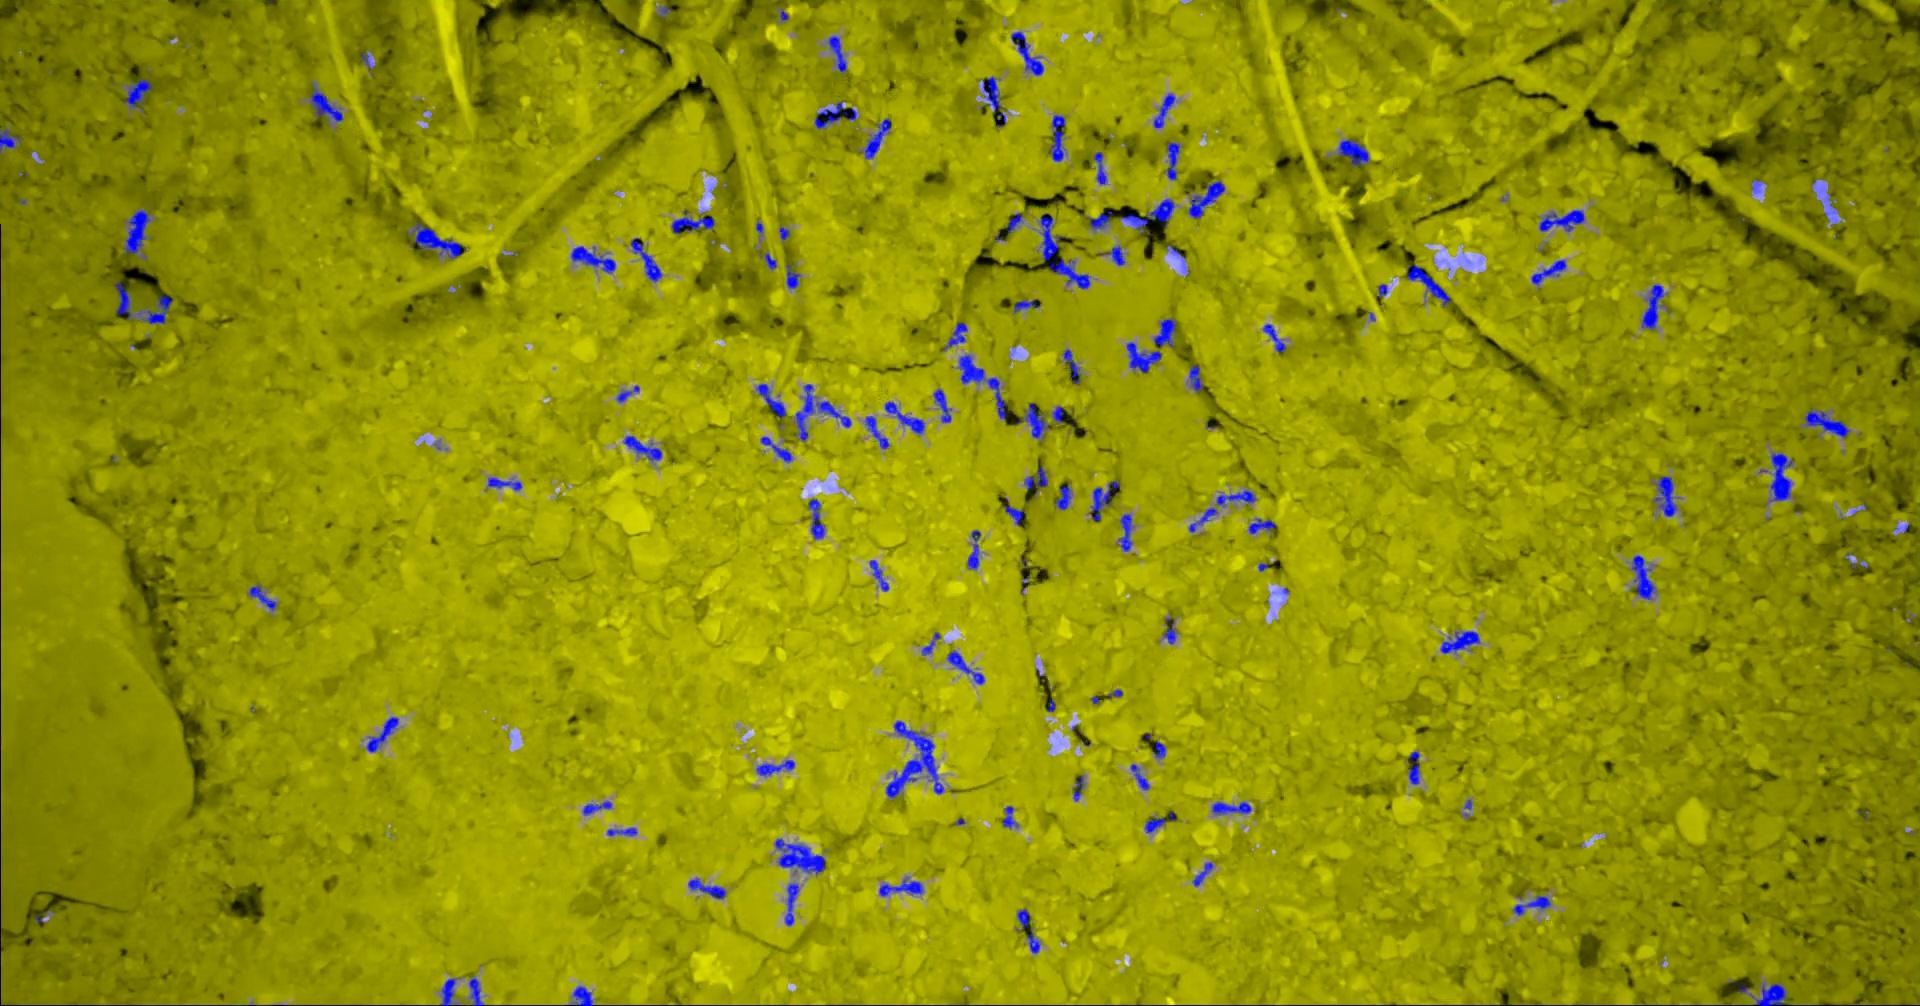ant: (1040, 213, 1090, 288), (957, 354, 1006, 419), (795, 384, 850, 439), (1121, 198, 1175, 232), (1406, 264, 1450, 305), (411, 222, 461, 258), (775, 838, 824, 874), (1011, 30, 1043, 75), (630, 238, 662, 281), (1189, 180, 1224, 218), (1804, 408, 1849, 438), (884, 401, 924, 433), (1015, 401, 1050, 437), (309, 83, 342, 121), (946, 650, 984, 683), (570, 245, 615, 273), (982, 76, 1004, 127), (814, 102, 856, 128), (1770, 452, 1793, 500), (1090, 480, 1117, 520), (123, 210, 149, 253), (1126, 340, 1161, 372), (366, 716, 397, 751), (1630, 555, 1655, 600), (863, 118, 890, 158), (756, 384, 786, 417), (670, 210, 714, 232), (1641, 285, 1663, 328), (623, 434, 662, 460), (1539, 210, 1583, 231), (1653, 476, 1677, 516), (1440, 630, 1479, 653), (141, 293, 171, 323), (1531, 259, 1566, 285), (124, 79, 151, 111), (759, 436, 791, 462), (879, 876, 923, 895), (863, 415, 888, 448), (1338, 138, 1368, 165), (687, 878, 725, 898), (1153, 93, 1175, 127), (114, 281, 133, 319), (1512, 895, 1550, 915), (1049, 114, 1064, 161), (1752, 983, 1785, 1005), (942, 323, 968, 351), (1189, 507, 1217, 532), (1023, 465, 1048, 494), (827, 36, 846, 72), (808, 498, 824, 539), (1262, 323, 1285, 352), (249, 586, 276, 610), (1153, 318, 1175, 347), (1144, 812, 1175, 832), (869, 559, 888, 591), (783, 882, 797, 925), (1217, 490, 1256, 506), (1063, 348, 1079, 384), (933, 389, 951, 422), (756, 760, 794, 775), (1117, 513, 1131, 551), (1098, 245, 1124, 265), (968, 528, 980, 569), (1211, 801, 1251, 814), (0, 128, 20, 152), (1192, 862, 1213, 887), (1130, 763, 1149, 789), (1166, 142, 1178, 179), (1002, 503, 1023, 525), (1054, 481, 1070, 509), (582, 800, 611, 815), (439, 978, 456, 1005), (1090, 210, 1112, 229), (469, 977, 484, 1005), (1093, 151, 1106, 184), (488, 478, 521, 490), (571, 986, 593, 1005), (1248, 518, 1275, 533), (921, 633, 938, 655), (785, 263, 800, 288), (616, 385, 639, 401), (1407, 751, 1418, 784), (1013, 298, 1040, 312), (1189, 365, 1203, 391), (1002, 805, 1018, 827), (1163, 617, 1176, 643), (1026, 930, 1040, 953), (1006, 213, 1022, 232), (1072, 775, 1083, 800), (1016, 908, 1029, 929), (1051, 406, 1065, 423), (607, 827, 636, 835), (1153, 741, 1164, 758), (764, 253, 776, 269)
